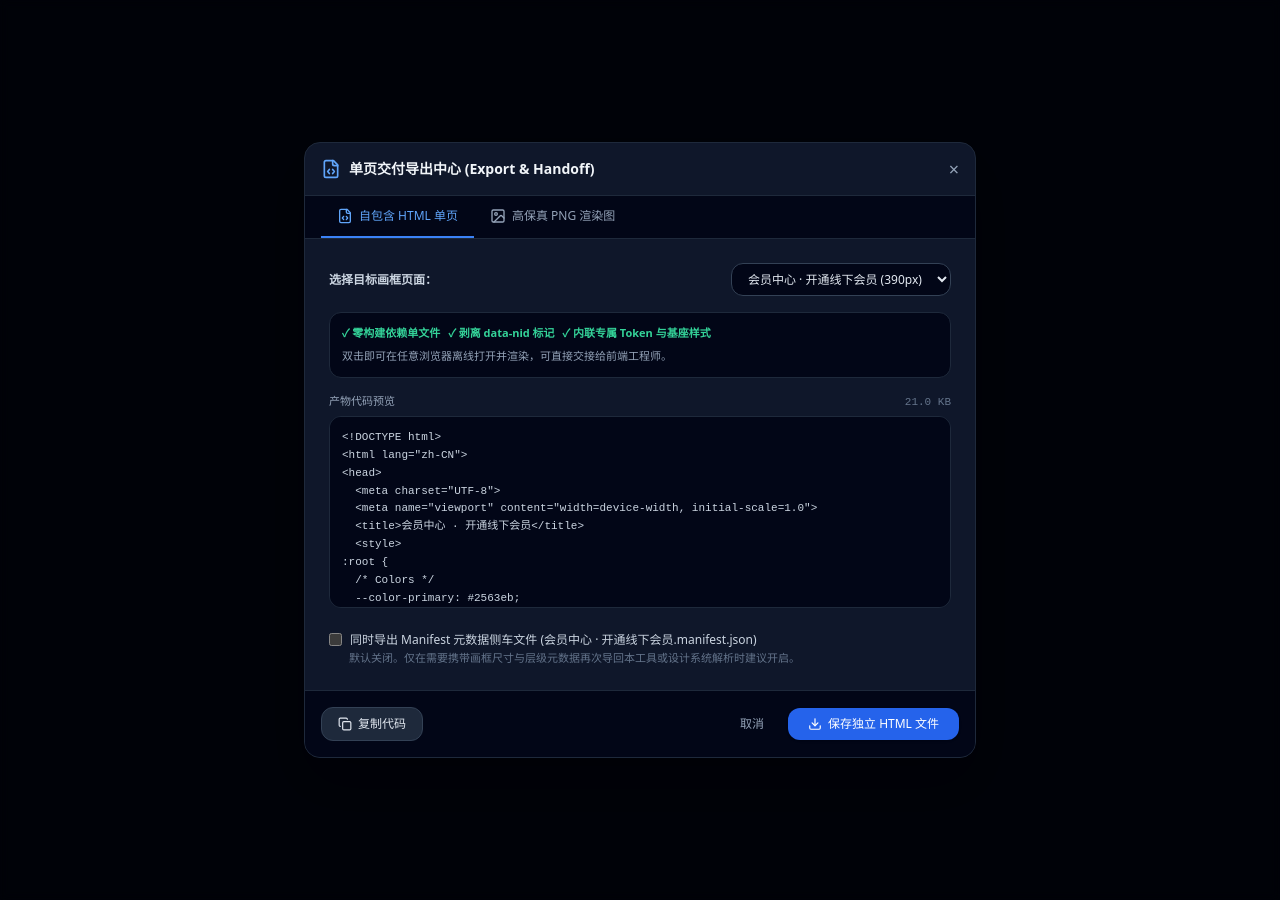
Test case: ExportModal UI Specification (ISSUE-024 / CHK-EXP-01 ~ CHK-EXP-05) › CHK-EXP-01: 点击保存 HTML 只落一个 .html，不被 manifest 覆盖（浏览器环境退回下载）
Click the button "保存独立 HTML 文件" at point(874, 724), box [788, 708, 959, 740]
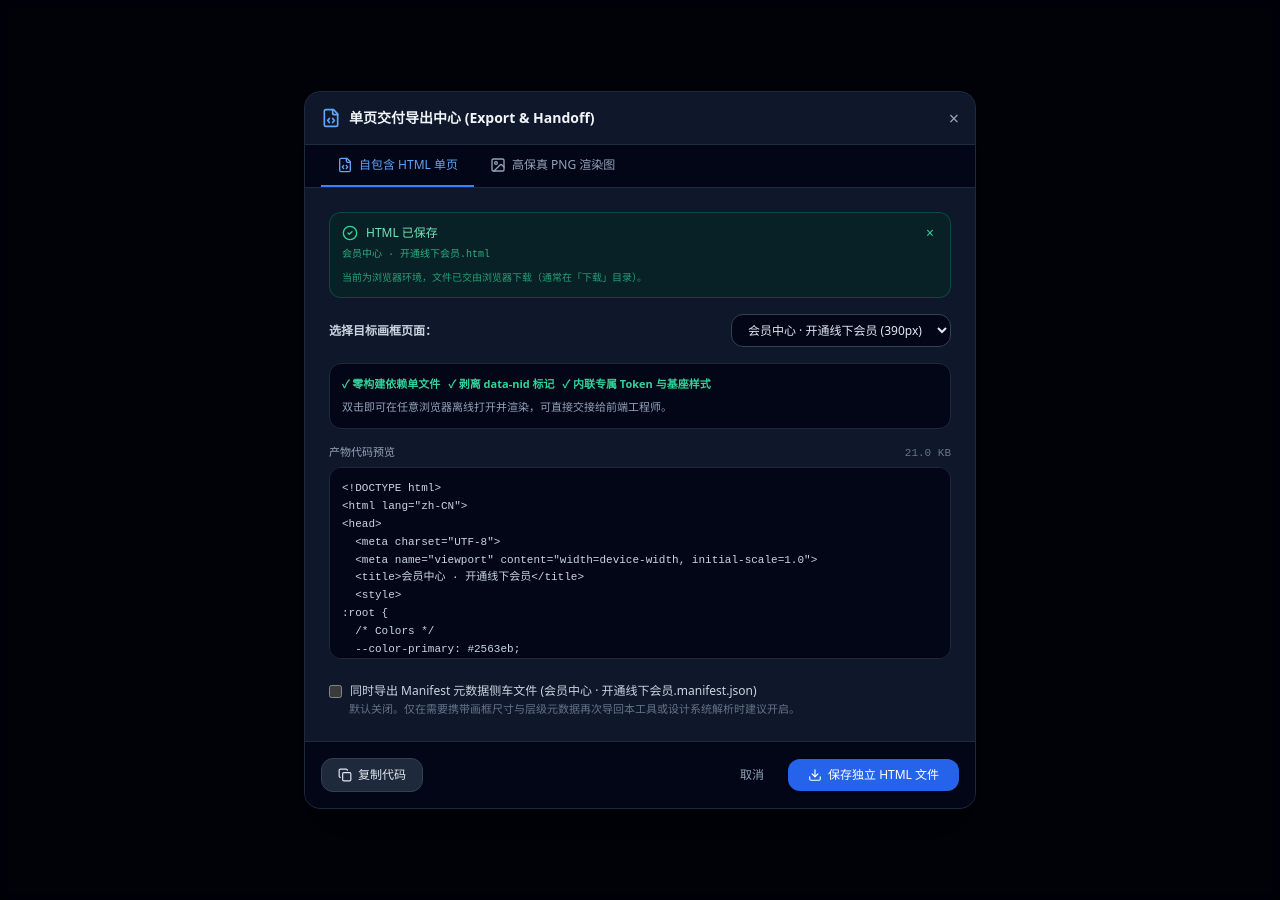
Result: the text "会员中心 · 开通线下会员.html" is shown at [342, 249, 490, 260]
